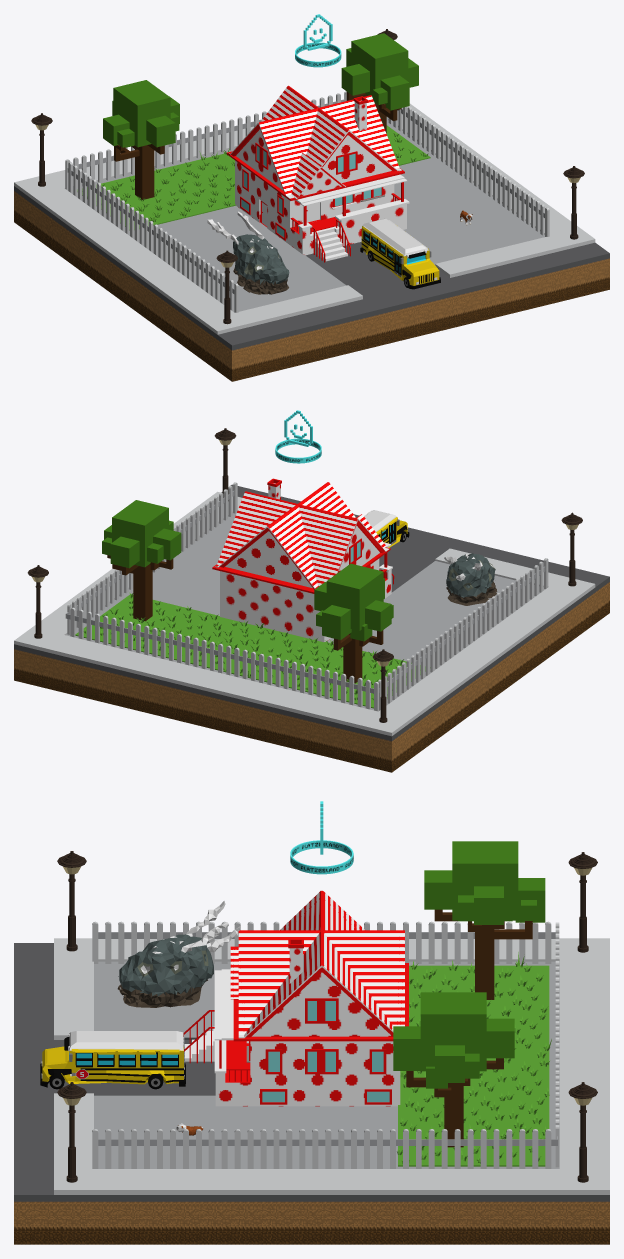
3 views of the same model, one above another, from view 1: azimuth 30°, elevation 25°; view 2: azimuth 150°, elevation 25°; view 3: azimuth 270°, elevation 25° (orthographic). The views are drawn at different scales.
Visible parts, largest first — view 1: Cube.004, Cube.196, VEHICLES_SCHOOL_BUS, OBJRANDOM_METEORITE, TYPE_PREMIUM; view 2: Cube.004, Cube.196, OBJRANDOM_METEORITE, VEHICLES_SCHOOL_BUS, TYPE_PREMIUM; view 3: Cube.004, Cube.196, VEHICLES_SCHOOL_BUS, OBJRANDOM_METEORITE, TYPE_PREMIUM.
Part boxes in pixels (<box>): Cube.004: <box>14,29,609,381</box>; Cube.196: <box>226,85,409,262</box>; VEHICLES_SCHOOL_BUS: <box>360,218,440,289</box>; OBJRANDOM_METEORITE: <box>207,211,289,294</box>; TYPE_PREMIUM: <box>295,14,341,67</box>; Cube.004: <box>14,428,609,772</box>; Cube.196: <box>212,478,394,642</box>; OBJRANDOM_METEORITE: <box>444,553,497,605</box>; VEHICLES_SCHOOL_BUS: <box>364,510,409,547</box>; TYPE_PREMIUM: <box>275,410,321,463</box>; Cube.004: <box>14,841,609,1244</box>; Cube.196: <box>183,890,408,1106</box>; VEHICLES_SCHOOL_BUS: <box>40,1031,185,1089</box>; OBJRANDOM_METEORITE: <box>117,901,240,1007</box>; TYPE_PREMIUM: <box>290,801,353,874</box>.
Size of the model in its own units: 4000 by 2470 by 4000.
38 materials, 5 textured.
